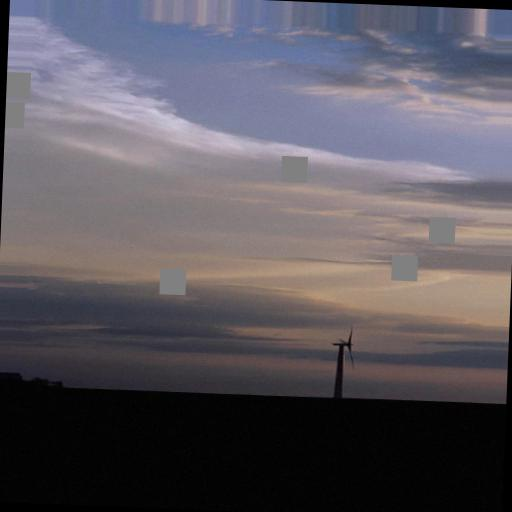wind turbine: (331, 326, 357, 401)
